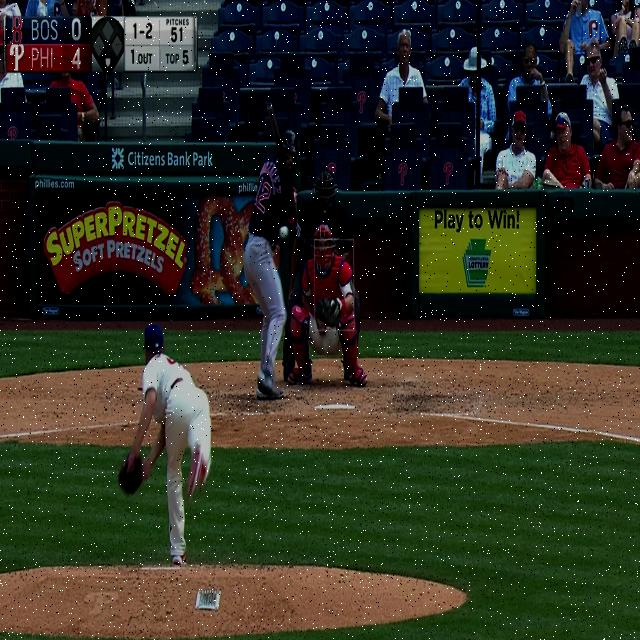baseball: (279, 226, 289, 240)
